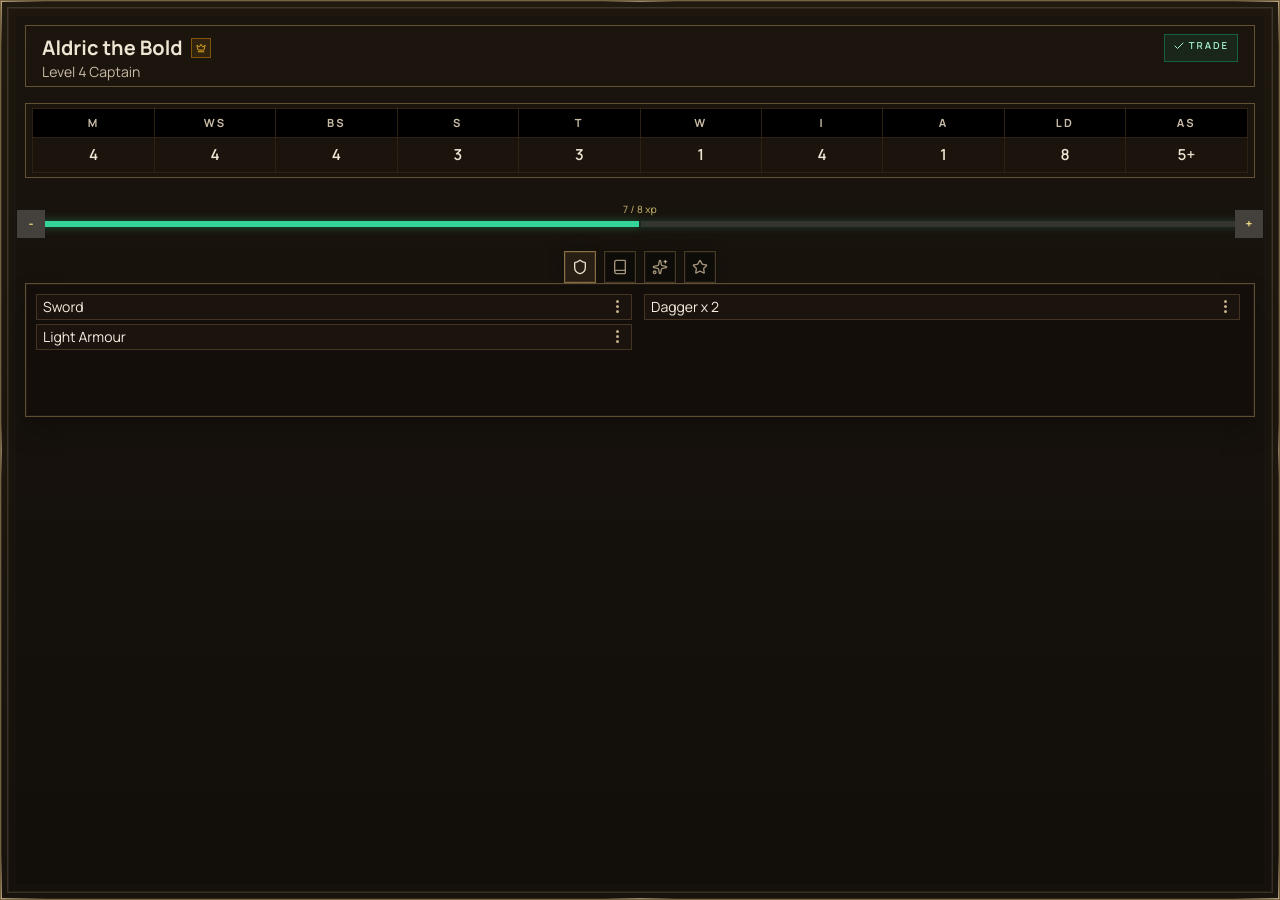
Test: hero summary card › puts the XP back and says why when the save fails (BUG-31)
The width and height of the screenshot is (1280, 900).
Click the button "+".
click(1249, 224)  # box [1235,210,1263,238]
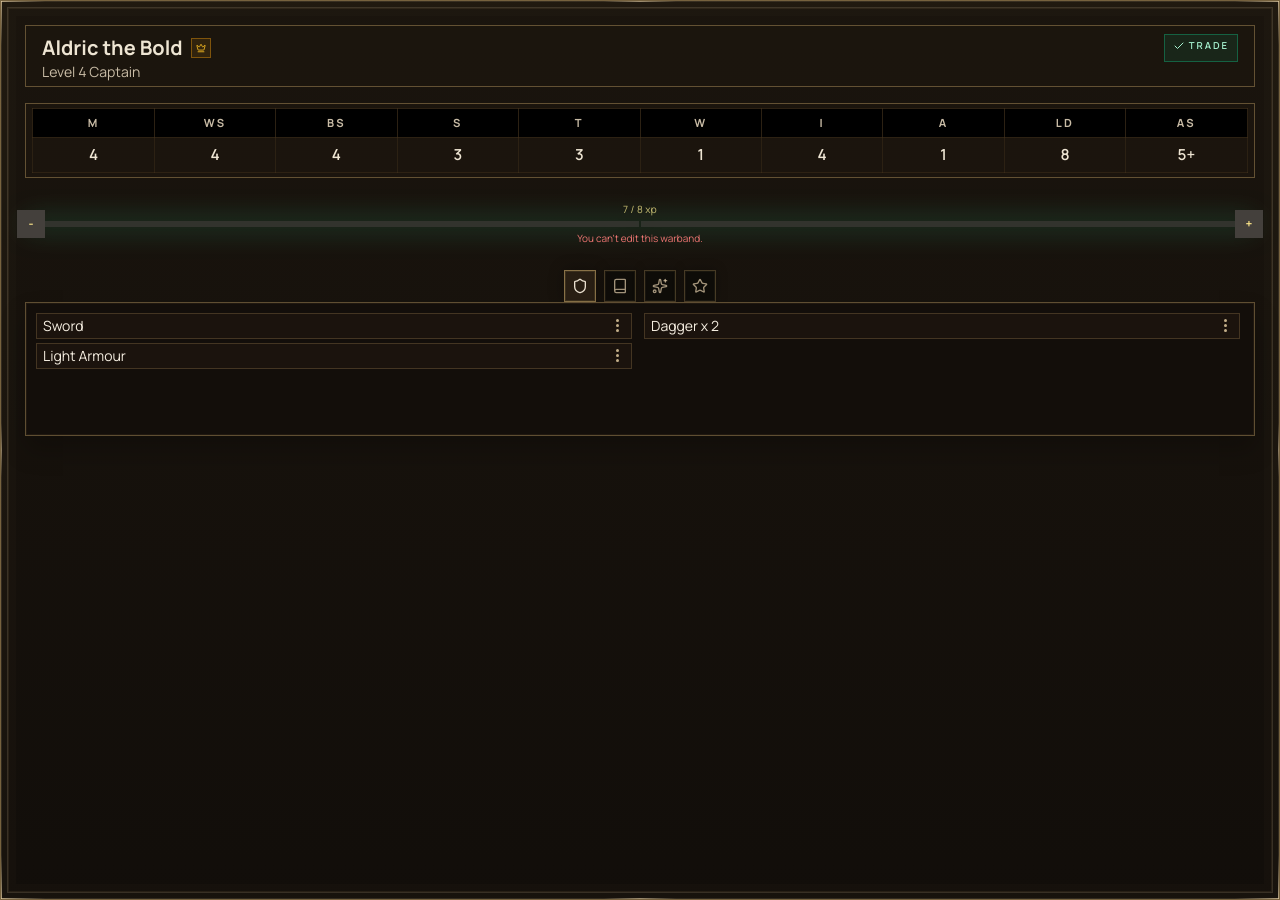
Check: the text "7 / 8 xp" is shown, box [623,202,657,216]
Check: the message reads "You can't edit this warband.", box [577,231,703,245]
